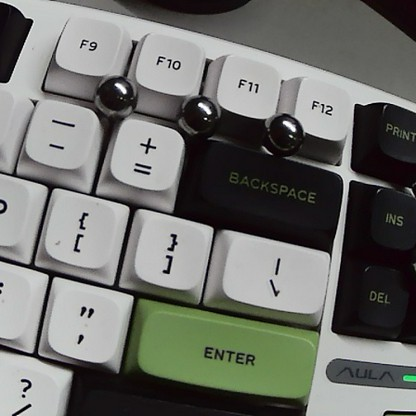ironball: (175, 87, 226, 140), (93, 70, 142, 123), (256, 114, 307, 153)
